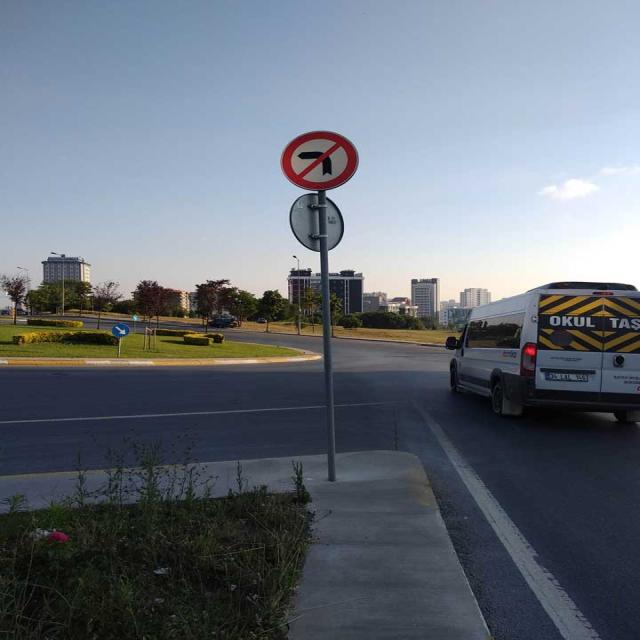soladonulmez: (279, 130, 362, 190)
